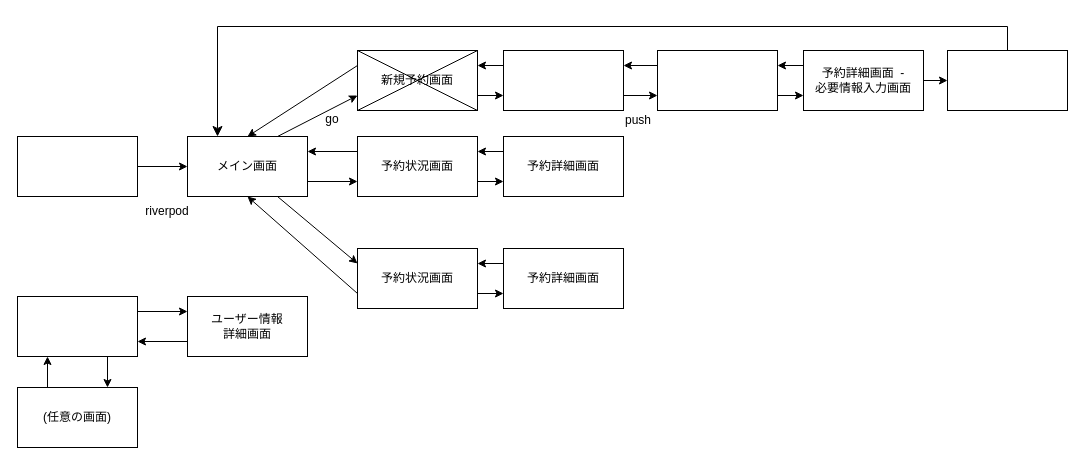
Image size: 1085x465. Some labels were removed from this diagram. Each missing label, with the centre of its shape:
ユーザー情報 画面: the point at 77,326
ログイン画面: the point at 77,166
予約詳細画面 - 日付選択画面: the point at 717,80
施設選択画面: the point at 563,80
案内表示画面: the point at 1007,80
